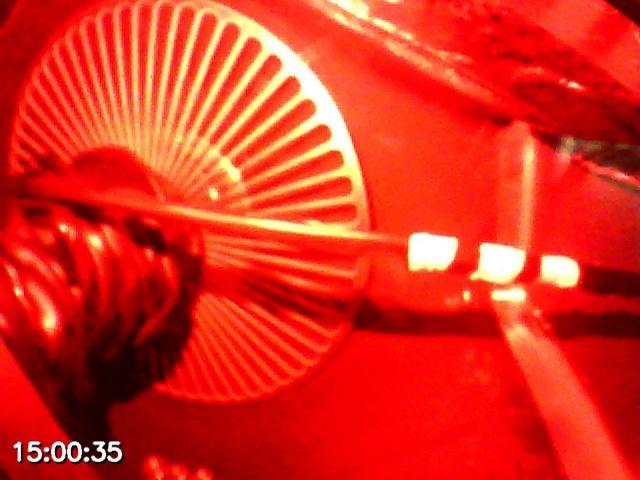white-dots: (407, 232, 580, 289)
